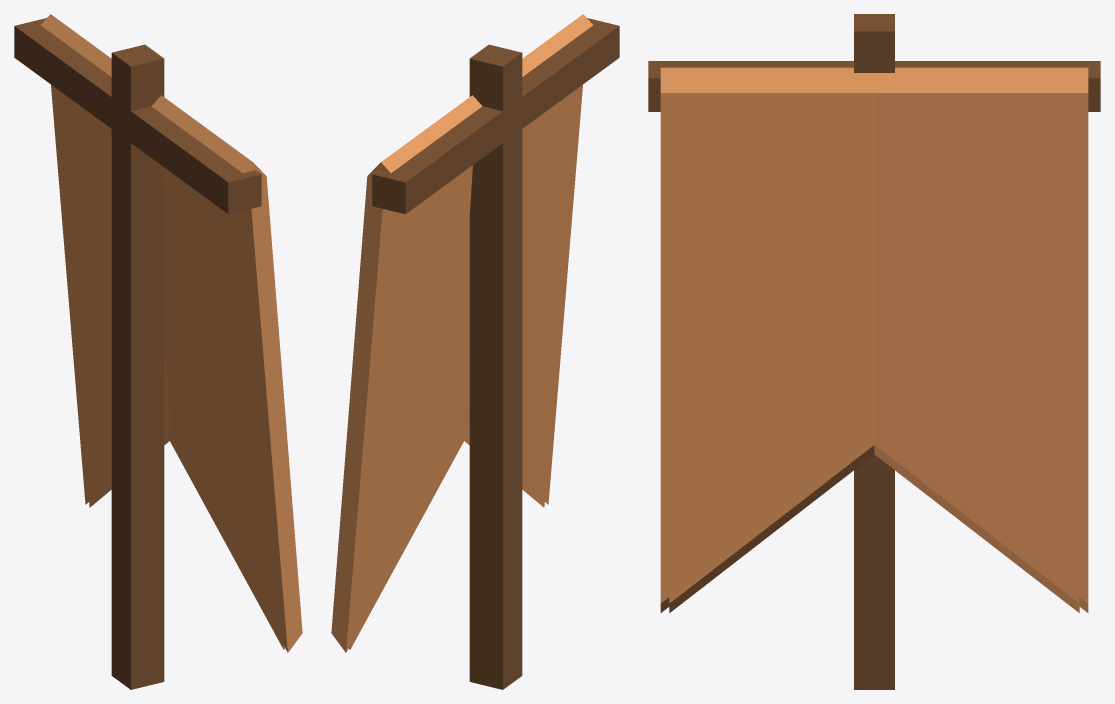
The model's file is barracksFlag.fbx.
3 renders of one model, left to right at view 1: azimuth 30°, elevation 25°; view 2: azimuth 150°, elevation 25°; view 3: azimuth 270°, elevation 25°, orthographic. The views are drawn at different scales.
Visible parts, largest first — view 1: Cube; view 2: Cube; view 3: Cube.
Boxes of the visible parts, bbox=[...] form: Cube: bbox=[14, 14, 302, 689]; Cube: bbox=[331, 14, 619, 689]; Cube: bbox=[648, 14, 1100, 689].
Size of the model in its own units: 398 by 640 by 85.99.
